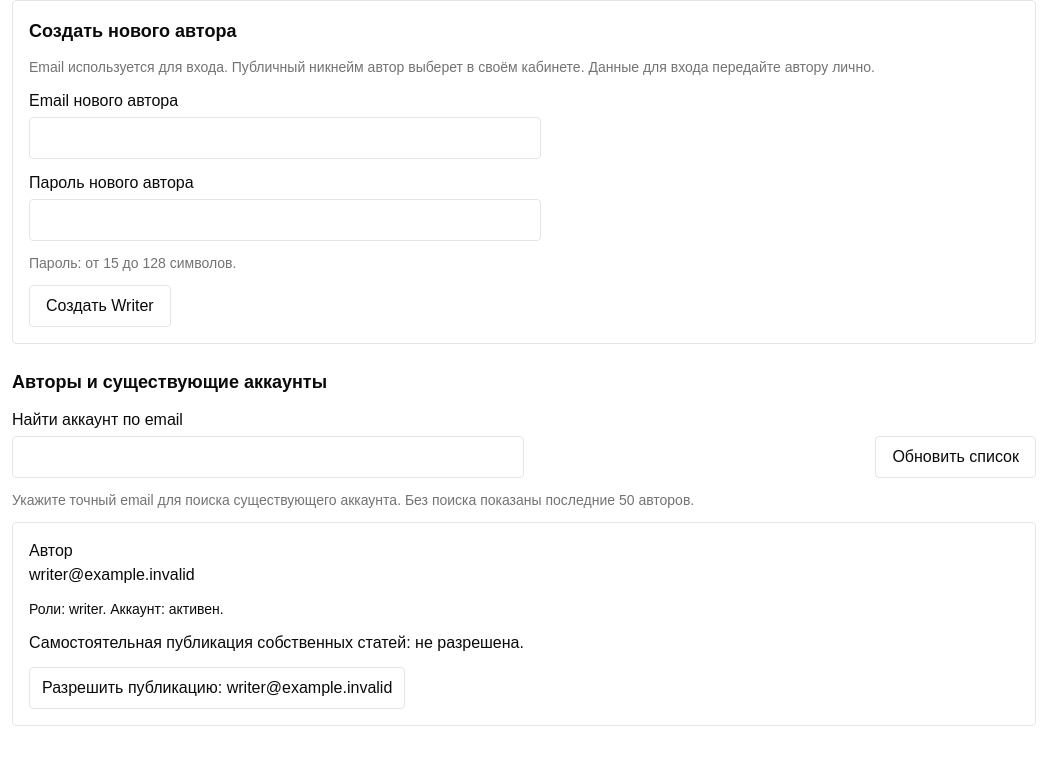
Test: Writer management UI › requires an explicit GET after a conflict or uncertain server write and never automatically retries
The image size is (1048, 768).
Step 1. Click the button "Разрешить публикацию: writer@example.invalid" → (217, 688), box left=29, top=667, right=405, bottom=709
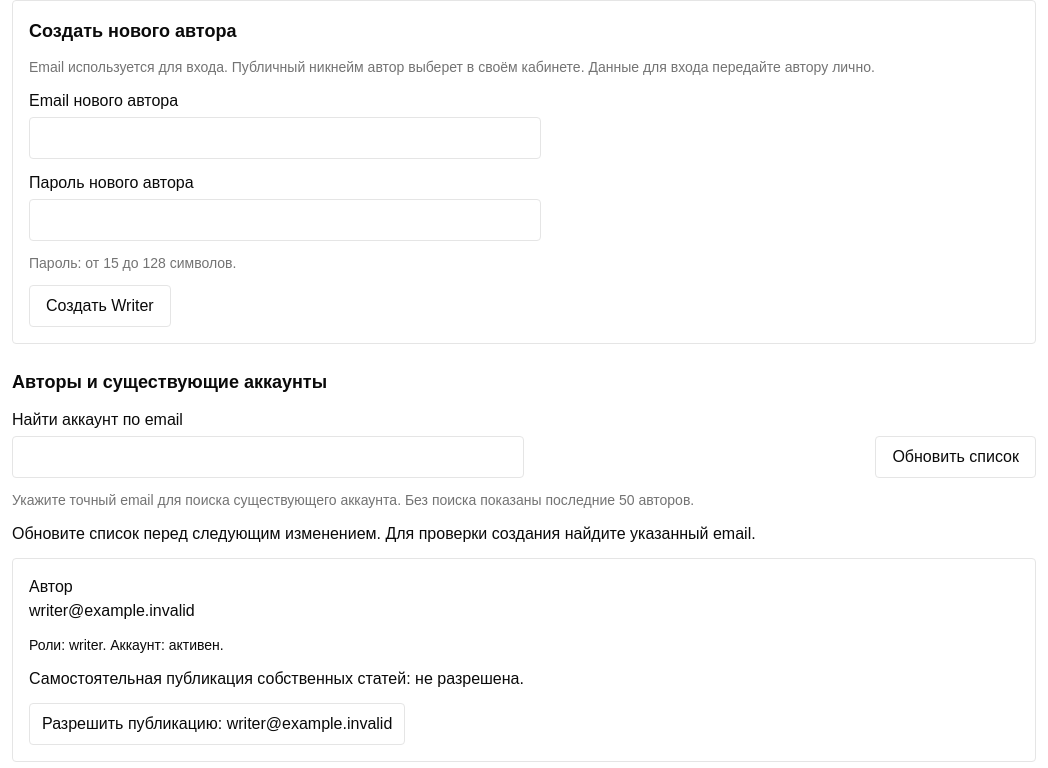
Step 2. Click the button "Обновить список" → (956, 457), box left=875, top=436, right=1036, bottom=478
(page scrolled)
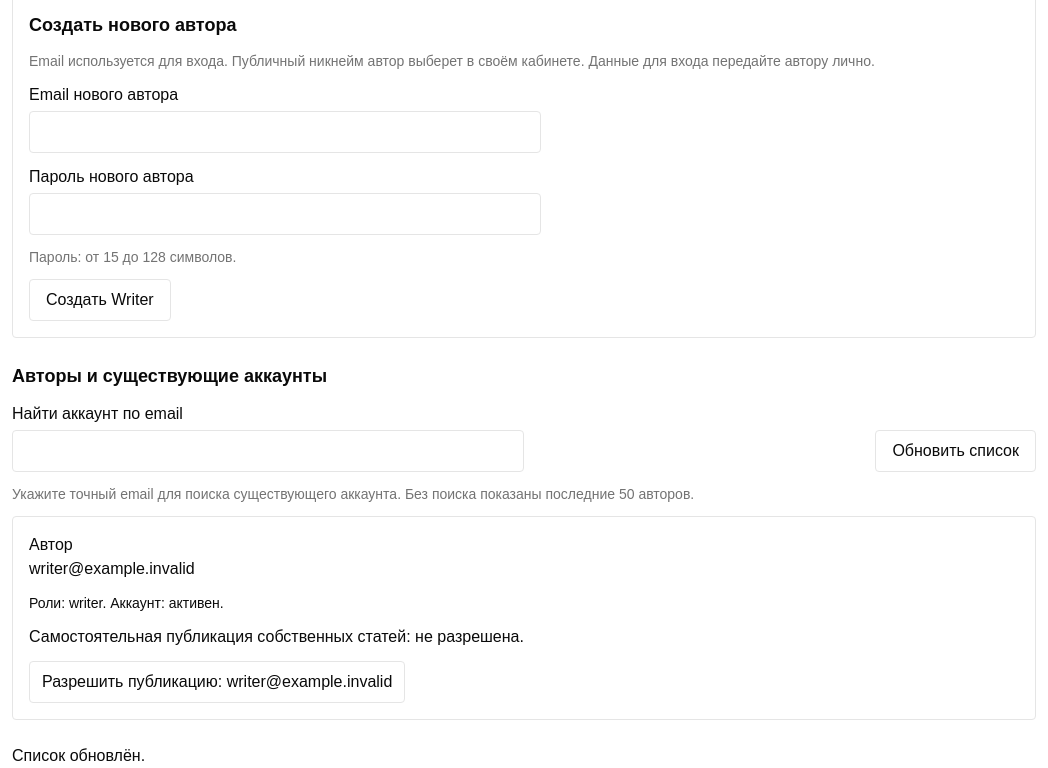
Now the text "Список обновлён." is shown, box left=12, top=747, right=145, bottom=764
